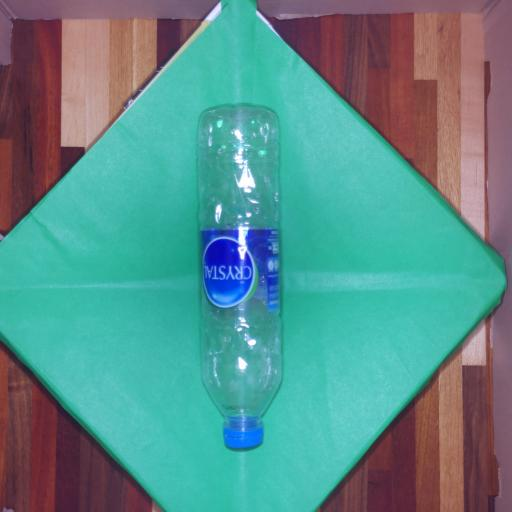bottle: (188, 85, 297, 460)
